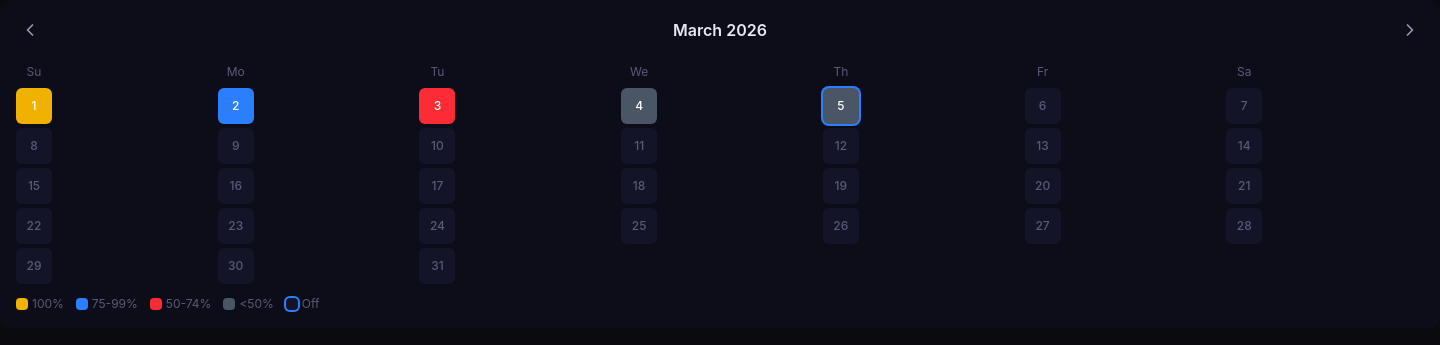
CalendarHeatmap › shows popover on day click with per-habit detail
The image size is (1440, 345).
Click the button named "Day 1, gold tier" at (34, 106), box x1=16 y1=88 x2=52 y2=124
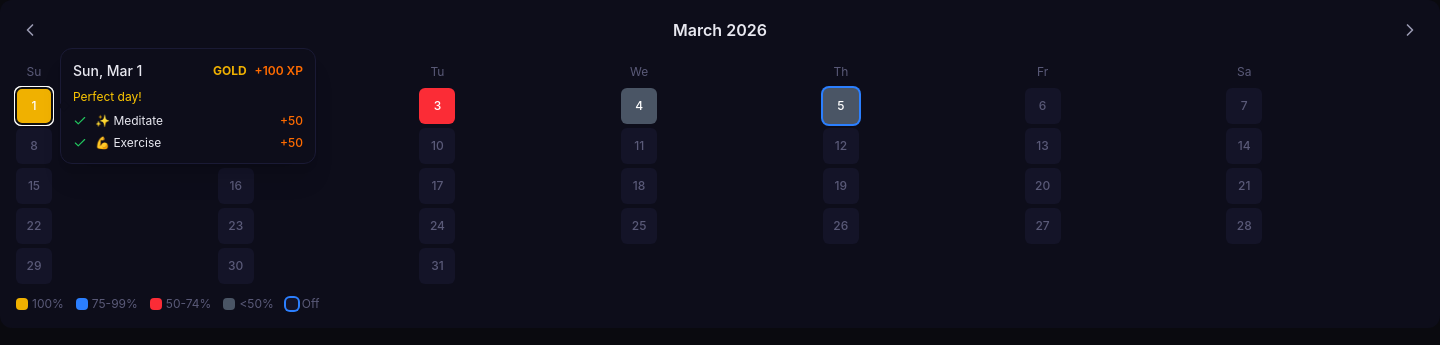
Result: the text "+100 XP" is shown at x1=255 y1=63 x2=303 y2=79
Result: the text "Perfect day!" is shown at x1=73 y1=89 x2=142 y2=104
Result: the text "✨ Meditate" is shown at x1=95 y1=113 x2=163 y2=128
